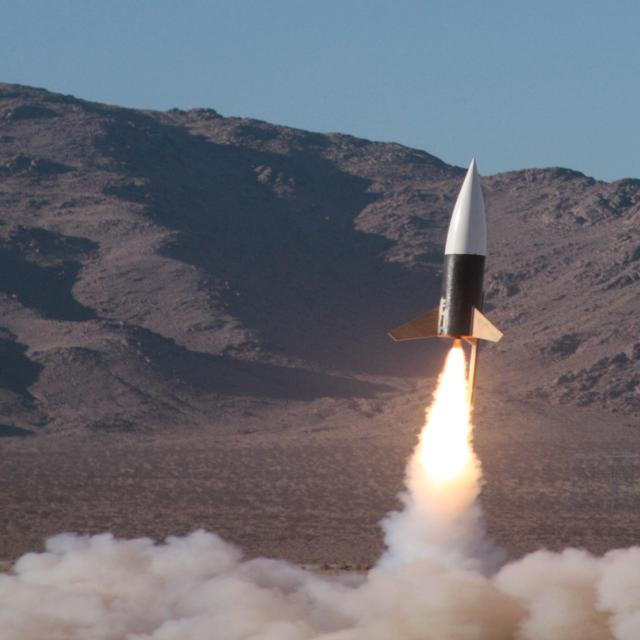Rocket: (385, 157, 505, 346)
